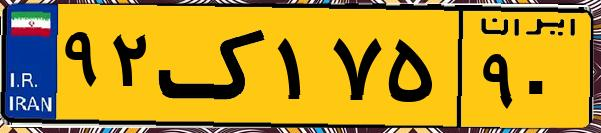0: (525, 38, 570, 115)
1: (270, 28, 330, 110)
2: (110, 28, 158, 98)
5: (385, 28, 445, 110)
7: (330, 28, 385, 110)
9: (57, 26, 110, 100), (475, 38, 525, 113)
ک: (158, 12, 270, 120)
